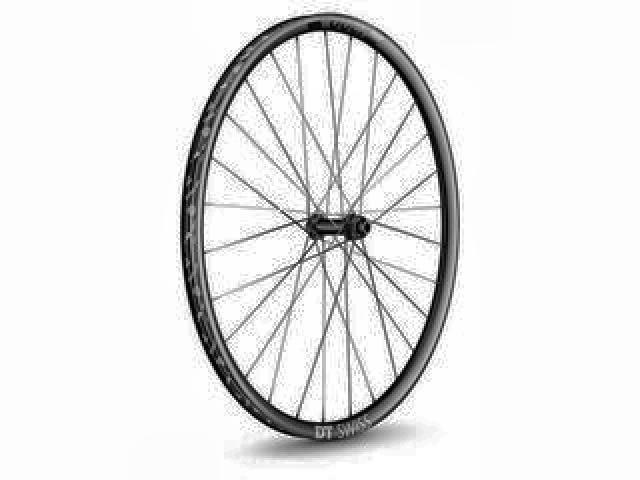wheel: (178, 10, 462, 444)
